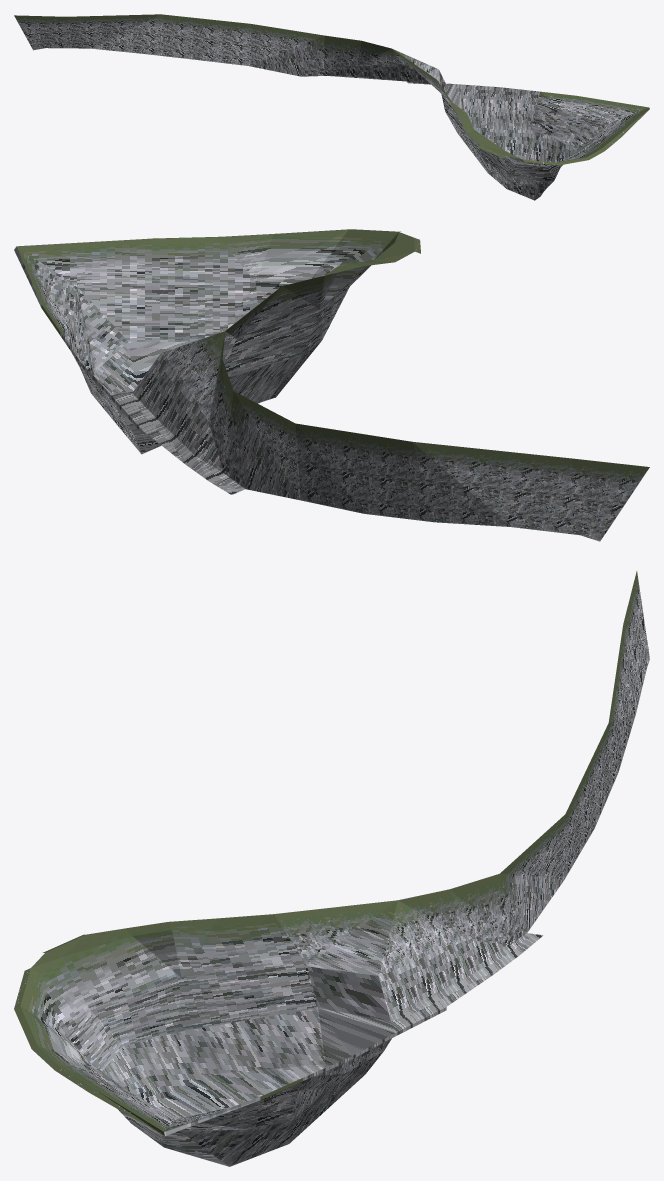
File: lodlaybyland_sfs.obj
3 views of the same model, one above another, from view 1: azimuth 30°, elevation 25°; view 2: azimuth 150°, elevation 25°; view 3: azimuth 270°, elevation 25° (orthographic). The views are drawn at different scales.
Parts seen in each view (by area): view 1: LODlaybyland_SFS; view 2: LODlaybyland_SFS; view 3: LODlaybyland_SFS.
Part boxes in pixels (x1=…): LODlaybyland_SFS: x1=14, y1=14, x2=649, y2=200; LODlaybyland_SFS: x1=14, y1=229, x2=649, y2=541; LODlaybyland_SFS: x1=14, y1=571, x2=649, y2=1166.
Size of the model in its own units: 245 by 82.13 by 169.
Materials: 1 (1 with a texture image).
